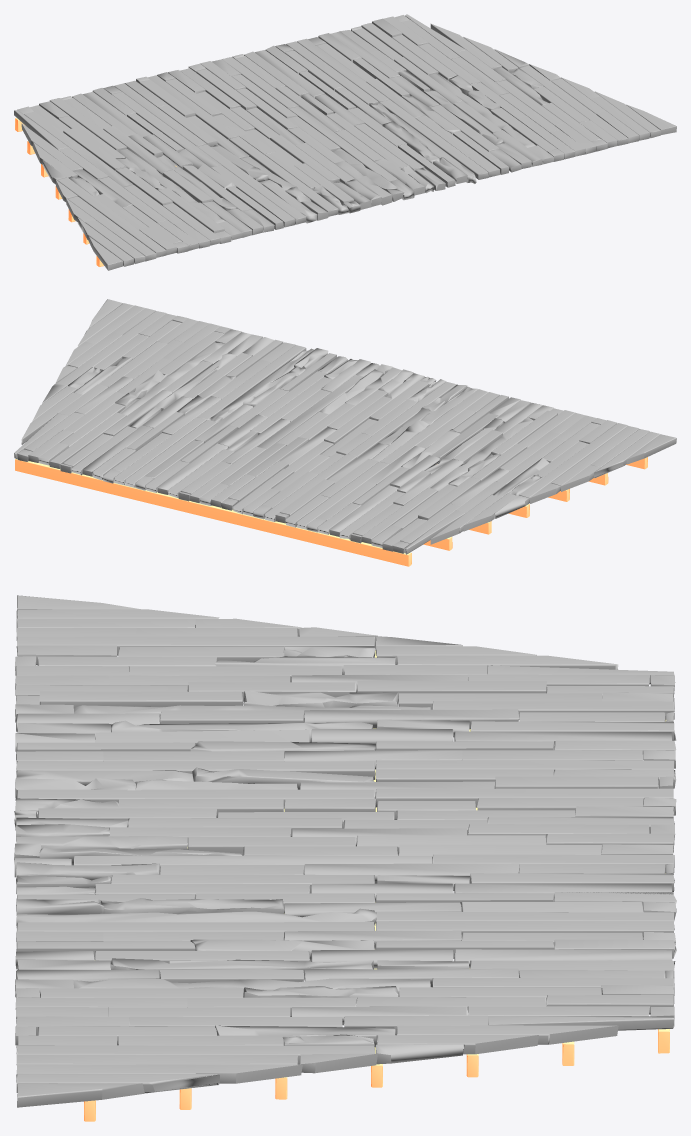
Rendered from SM_Floor_Forecastle.fbx.
The picture shows the model from 3 angles, top to bottom: view 1: azimuth 30°, elevation 25°; view 2: azimuth 150°, elevation 25°; view 3: azimuth 270°, elevation 25°; orthographic projection. The views are drawn at different scales.
Visible parts, largest first — view 1: SM_Floor_Forecastle_LOD0; view 2: SM_Floor_Forecastle_LOD0; view 3: SM_Floor_Forecastle_LOD0.
Part boxes in pixels (bbox=[...]): SM_Floor_Forecastle_LOD0: bbox=[14, 14, 676, 270]; SM_Floor_Forecastle_LOD0: bbox=[14, 299, 676, 566]; SM_Floor_Forecastle_LOD0: bbox=[14, 595, 676, 1121].
Bounding box in the file's own units: 994 × 554 × 37.69.
